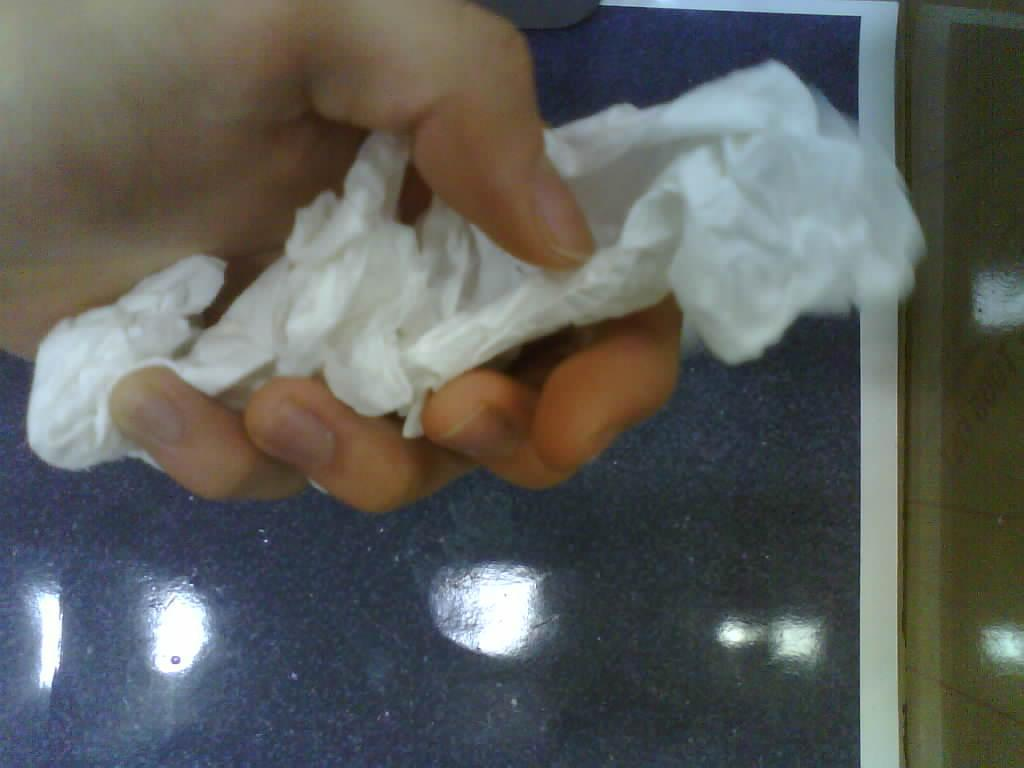paper: (28, 64, 920, 503)
